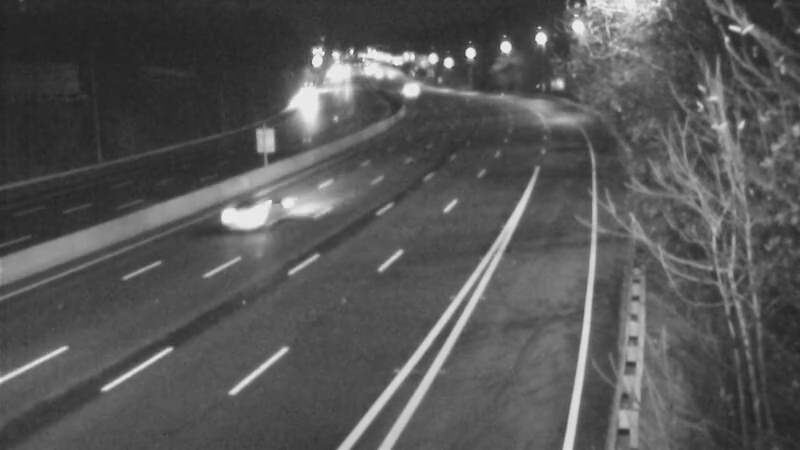vehicle: (207, 172, 287, 252), (389, 66, 439, 116)
